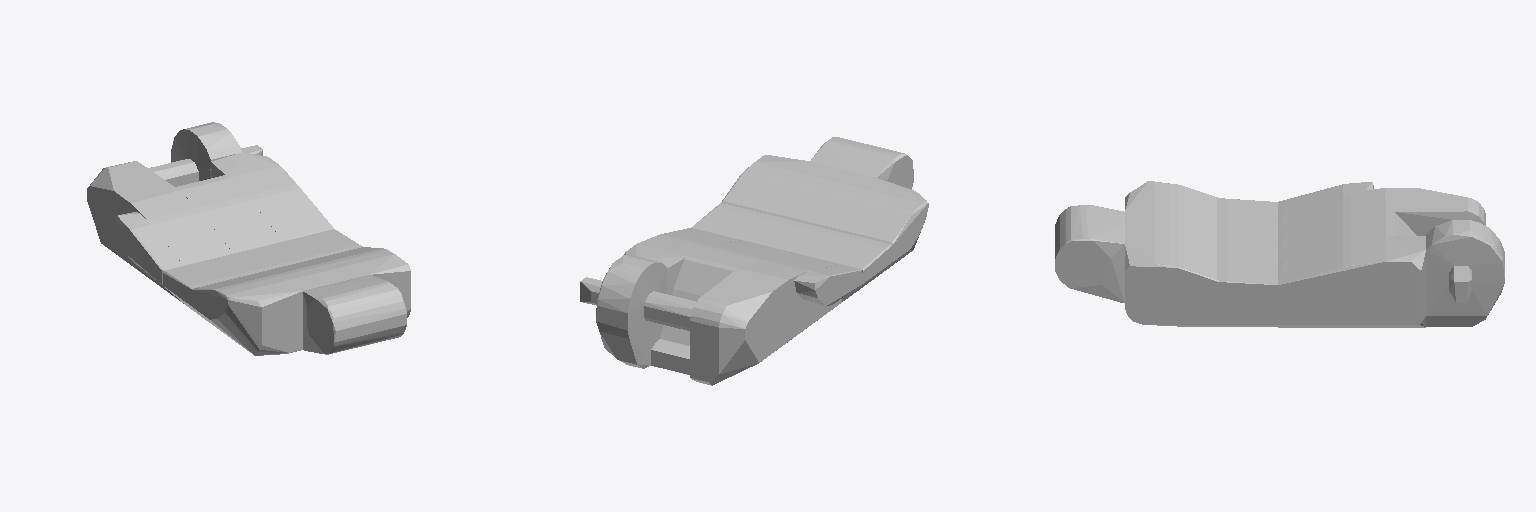
File: l_proximal_vhacd.obj
3 views of the same model, side by side, from view 1: azimuth 30°, elevation 25°; view 2: azimuth 150°, elevation 25°; view 3: azimuth 270°, elevation 25° (orthographic).
Visible parts, largest first — view 1: convex_4, convex_5, convex_0, convex_2, convex_3, convex_8, convex_1, convex_6, convex_10; view 2: convex_4, convex_5, convex_3, convex_6, convex_8, convex_0, convex_2, convex_1, convex_10, convex_9; view 3: convex_4, convex_2, convex_3, convex_6, convex_0, convex_5, convex_8, convex_1, convex_7.
Boxes of the visible parts, x1,y1,x2,y2 form: convex_4: [192, 247, 410, 355]; convex_5: [87, 161, 232, 303]; convex_0: [303, 275, 406, 354]; convex_2: [210, 152, 333, 240]; convex_3: [163, 229, 362, 325]; convex_8: [175, 175, 282, 253]; convex_1: [115, 212, 182, 284]; convex_6: [171, 122, 241, 180]; convex_10: [148, 159, 198, 186]; convex_4: [721, 155, 928, 279]; convex_5: [690, 252, 841, 385]; convex_3: [691, 203, 892, 301]; convex_6: [596, 254, 666, 368]; convex_8: [660, 240, 791, 345]; convex_0: [811, 137, 913, 189]; convex_2: [624, 228, 740, 294]; convex_1: [794, 265, 862, 305]; convex_10: [644, 291, 695, 330]; convex_9: [651, 339, 689, 374]; convex_4: [1125, 181, 1218, 326]; convex_2: [1278, 236, 1425, 327]; convex_3: [1219, 198, 1277, 326]; convex_6: [1426, 220, 1504, 326]; convex_0: [1055, 205, 1124, 302]; convex_5: [1278, 188, 1485, 235]; convex_8: [1278, 212, 1416, 259]; convex_1: [1278, 182, 1373, 211]; convex_7: [1449, 266, 1471, 302].
Size of the model in its own units: 0.0404 by 0.0204 by 0.0834.